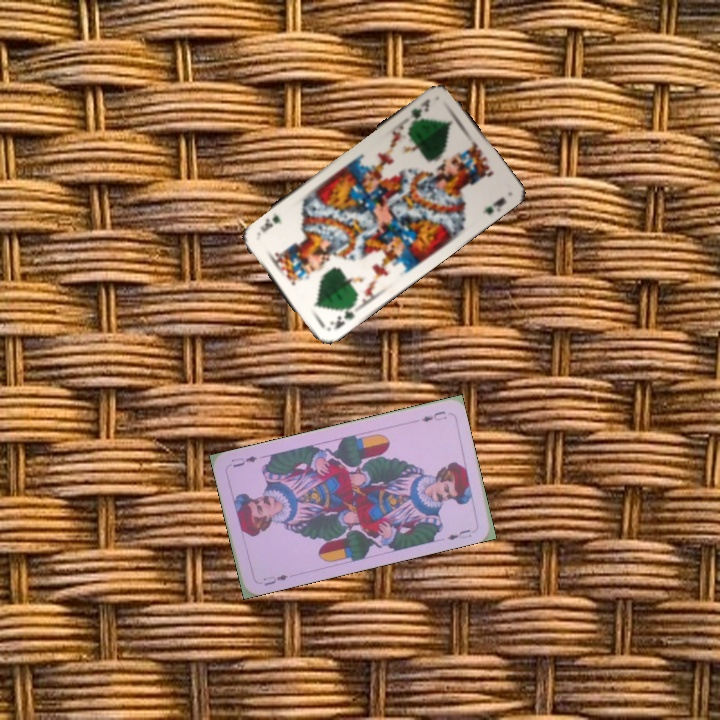EU: (417, 406, 449, 425), (259, 570, 290, 588)
GK: (325, 301, 357, 332), (406, 95, 433, 128)
